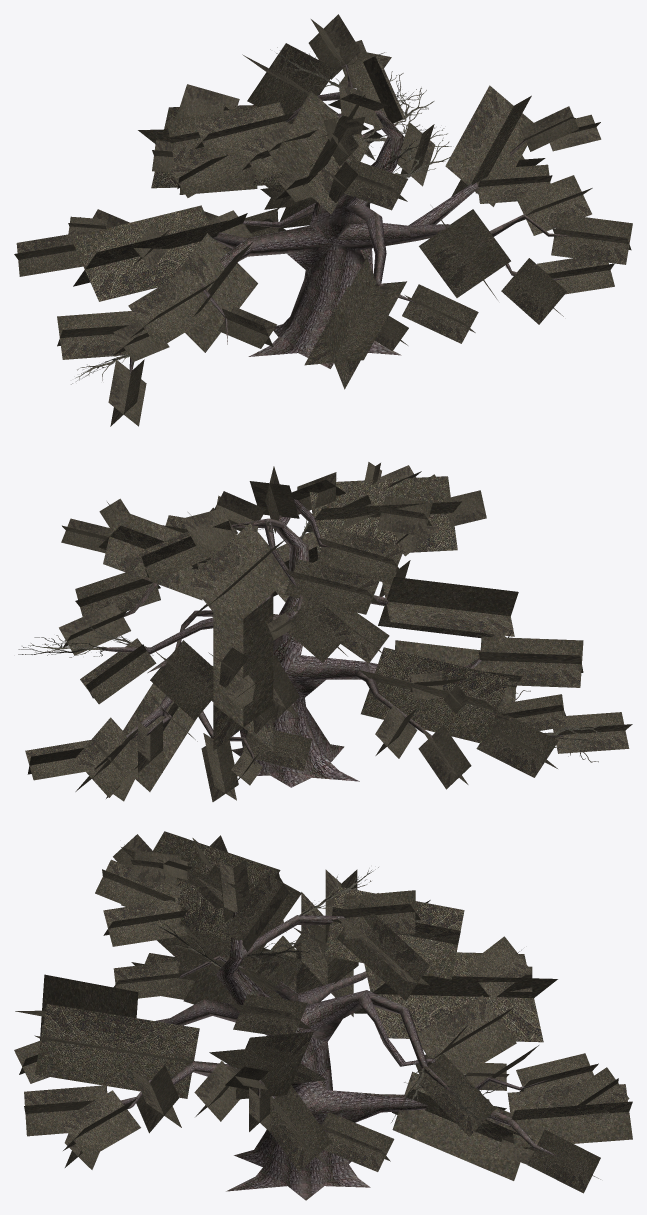
The model's file is tree_wide_dead.fbx.
The picture shows the model from 3 angles, top to bottom: view 1: azimuth 30°, elevation 25°; view 2: azimuth 150°, elevation 25°; view 3: azimuth 270°, elevation 25°; orthographic projection. The views are drawn at different scales.
Visible parts, largest first — view 1: mesh_1, mesh_0, mesh_2; view 2: mesh_1, mesh_0, mesh_2; view 3: mesh_1, mesh_0, mesh_2.
Part boxes in pixels (<box>): mesh_1: <box>14,14,632,426</box>; mesh_0: <box>129,64,572,373</box>; mesh_2: <box>71,47,458,384</box>; mesh_1: <box>25,462,632,801</box>; mesh_0: <box>73,499,562,787</box>; mesh_2: <box>18,520,617,762</box>; mesh_1: <box>14,831,632,1193</box>; mesh_0: <box>106,911,558,1200</box>; mesh_2: <box>147,867,505,1134</box>.
Bounding box in the file's own units: 2330 × 1158 × 2068.
3 materials, 3 textured.
